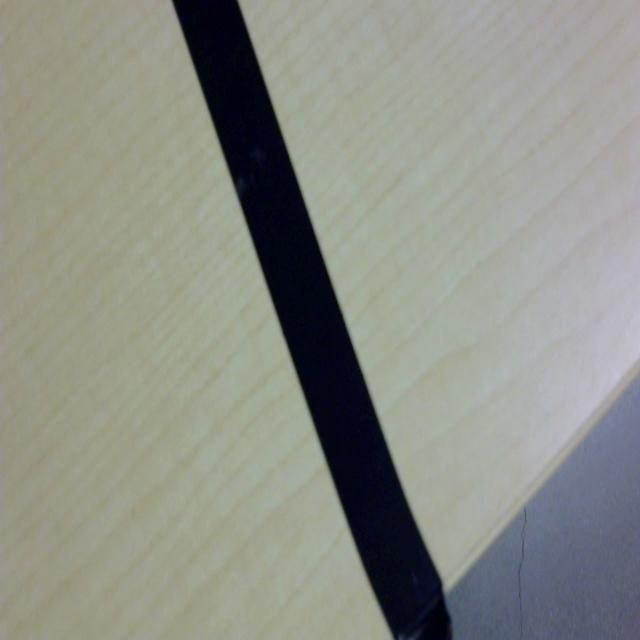tape: (158, 0, 482, 640)
